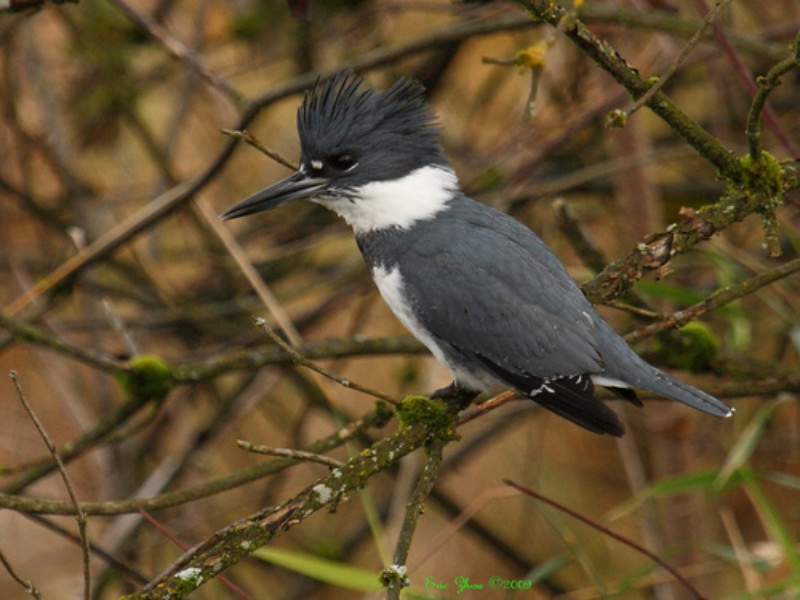kingfisher: (215, 69, 736, 448)
